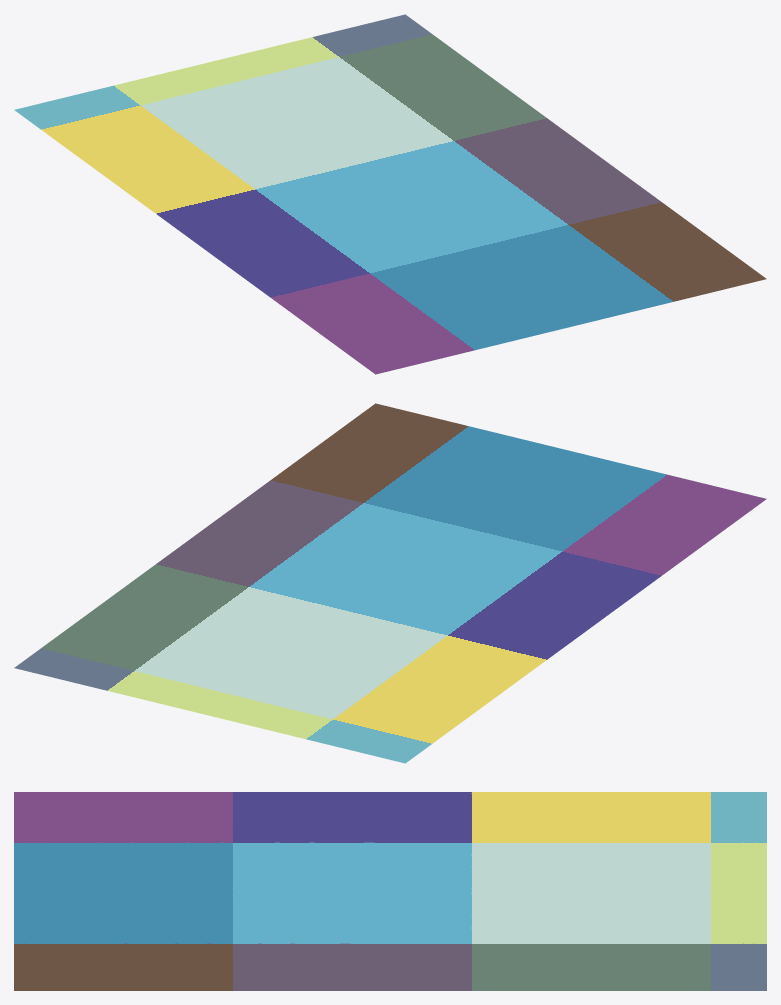
The model's file is RoadPart_Straight_01.fbx.
3 renders of one model, top to bottom at view 1: azimuth 30°, elevation 25°; view 2: azimuth 150°, elevation 25°; view 3: azimuth 270°, elevation 25°, orthographic. The views are drawn at different scales.
Visible parts, largest first — view 1: Plane; view 2: Plane; view 3: Plane.
Part boxes in pixels (x1,y1,x2,y2): Plane: (14,14,766,374); Plane: (14,403,766,763); Plane: (14,792,766,990).
Size of the model in its own units: 400 by 0.000138 by 640.
